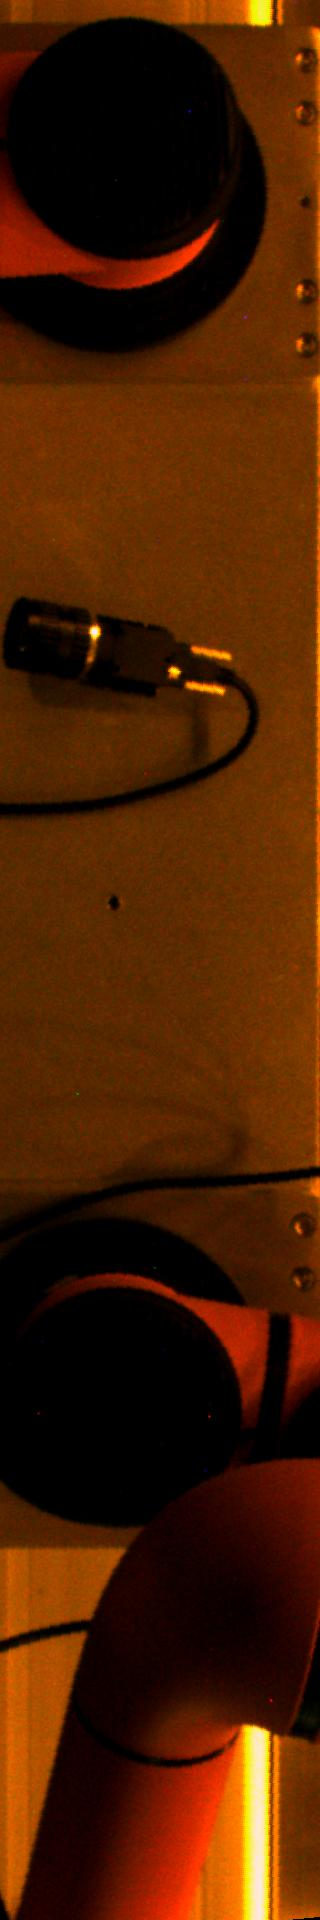keyPoint_2: (98, 888, 128, 918)
